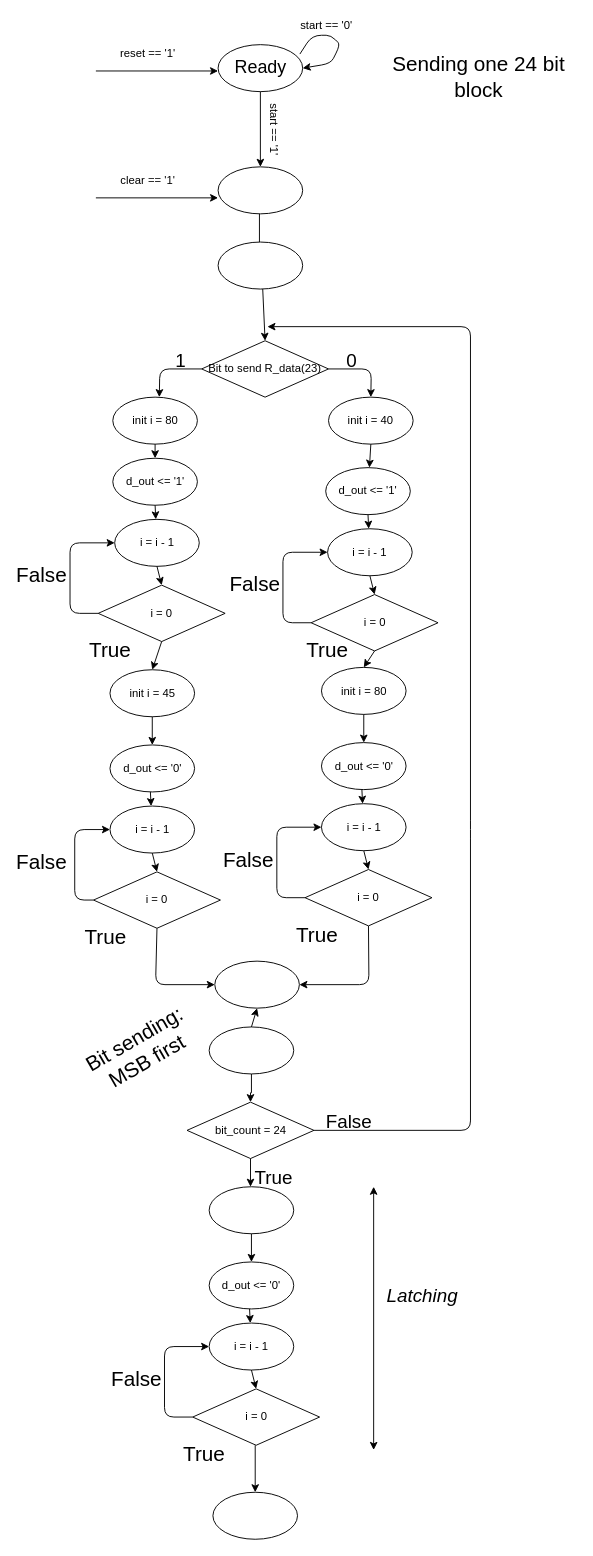
Image size: 593x1556. Some labels were removed from this diagram. Here are the shapes that lost their labels. From the top down, the box of each, then its label:
(217, 166, 303, 214): Init
(217, 241, 303, 289): bit_count = 0
(214, 960, 299, 1008): bit_count++
(208, 1026, 294, 1074): get next bit (R_data<<1)
(208, 1186, 294, 1234): init i = 5000
(212, 1491, 298, 1539): Display
